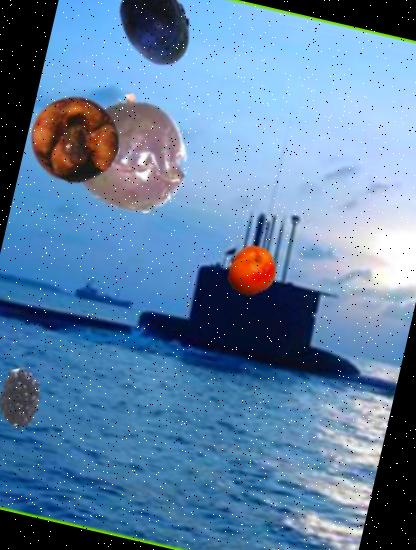Apricot: (221, 240, 283, 302)
Blueberry: (105, 0, 207, 76)
Mangostan: (20, 85, 129, 194)
Mulberry: (0, 363, 53, 431)
Passion: (58, 82, 203, 227)
Salak: (40, 108, 104, 172)
